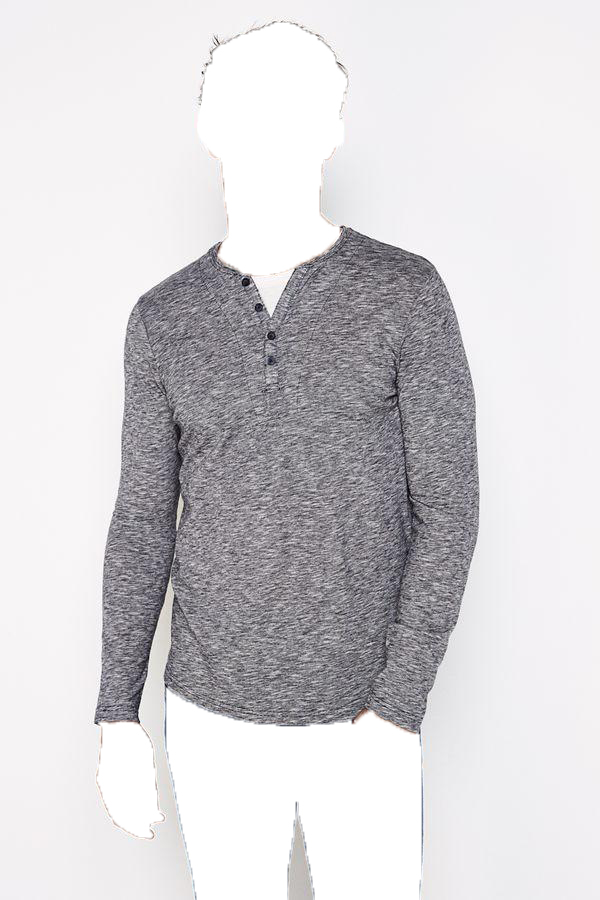teeshirt: (89, 226, 485, 762)
